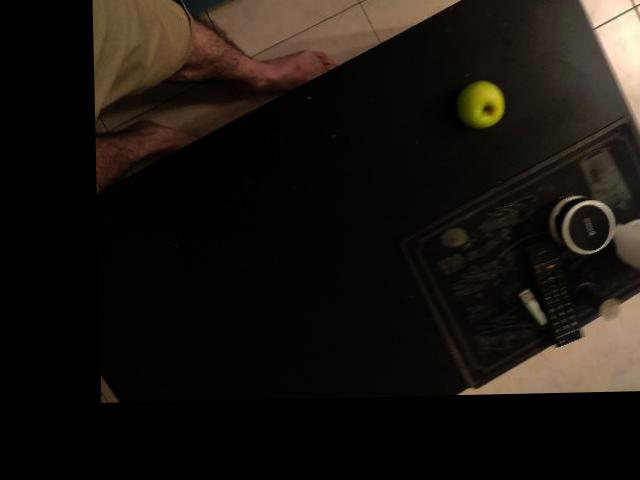apple: (508, 77, 570, 164)
